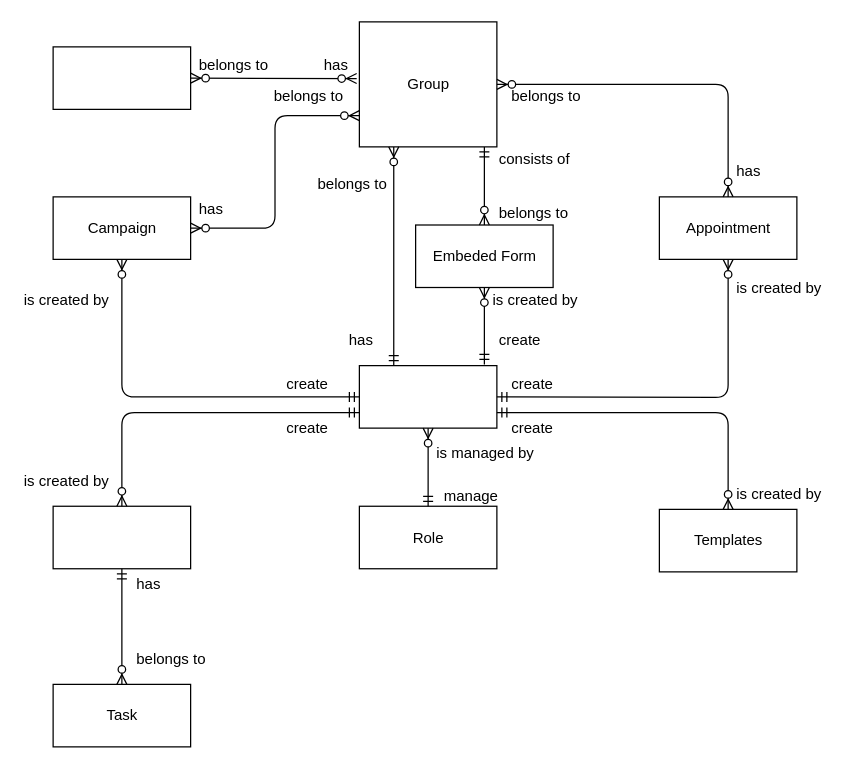
Some shapes in this 855 by 769 pixel diagram are drawn without their labels. Here are the shapes that lost their labels. From the top down, the centre of each, then its label:
At [121,77]: "Subscriber".
At [427,396]: "Account".
At [121,537]: "Workflow".
